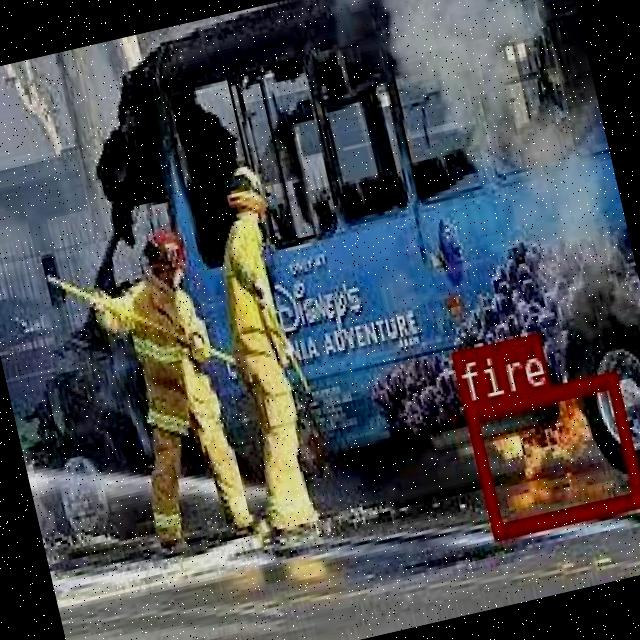fire: (461, 368, 640, 536)
